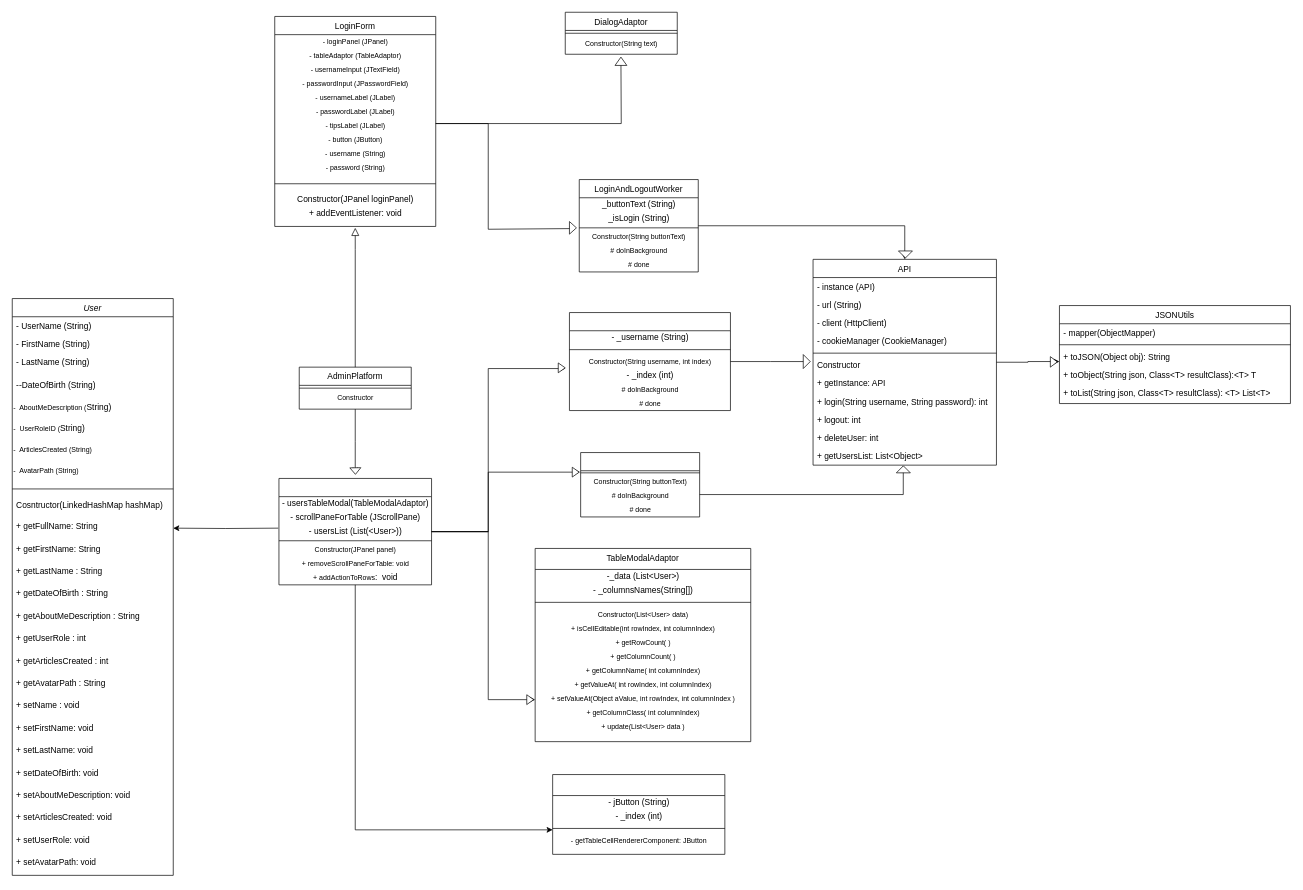
The diagram is 1303 pixels wide and 890 high, and some of its shapes have lost their labels. The shapes that lost their labels are listed below. From the top down, each one's box as (x1, y1, x2, y2) in pixels, then its label:
(569, 312, 730, 411): DeleteRowWorker
(580, 452, 700, 517): GetUsersListWorker
(278, 478, 432, 585): TableAdaptor
(552, 774, 725, 854): TableCellAdaptor
